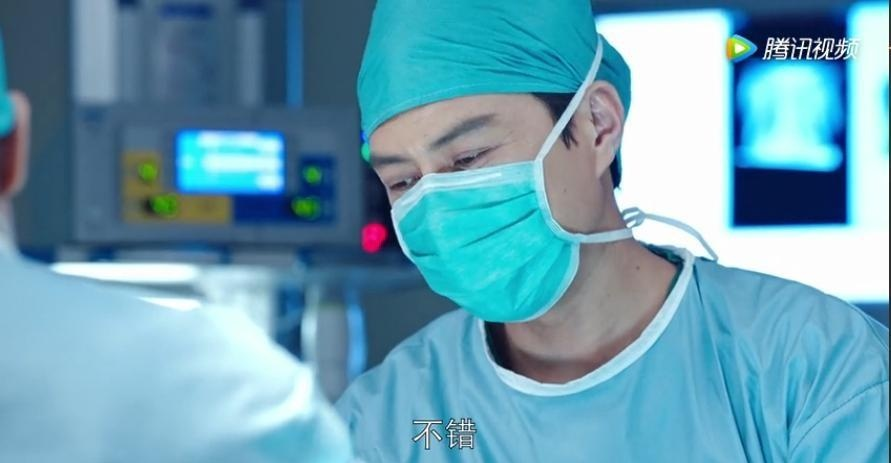Mask: (367, 109, 586, 328)
